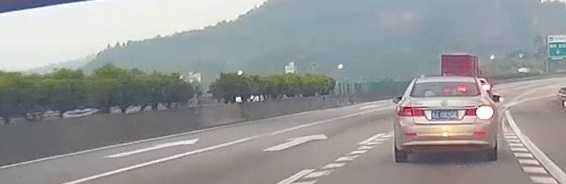L_light: (396, 105, 425, 117)
R_light: (464, 105, 494, 116)
T_light: (437, 95, 454, 97)
day-right: (393, 76, 498, 163)
